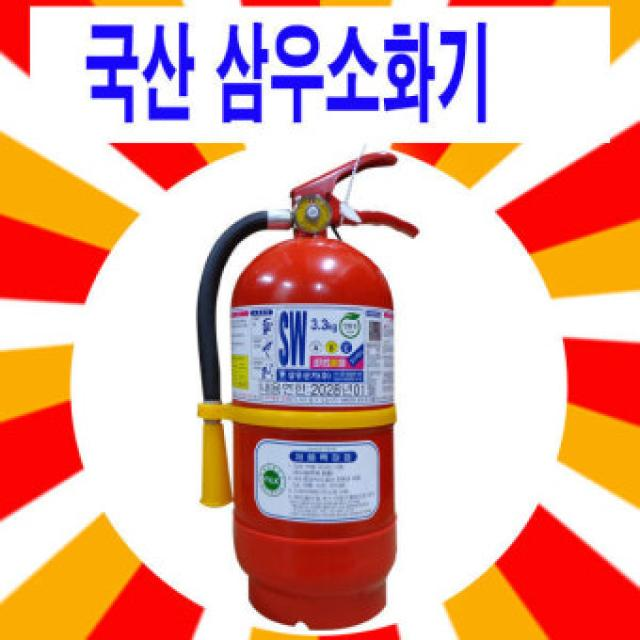pressure gauge: (297, 194, 329, 230)
